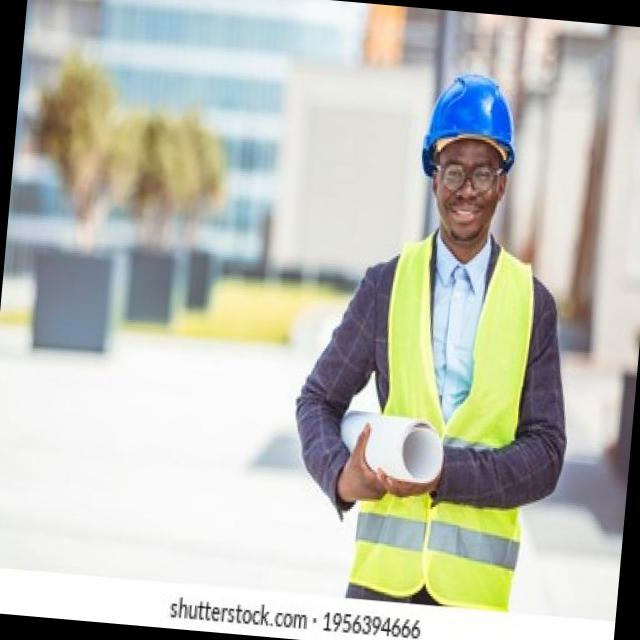Helmet: (420, 61, 536, 178)
Vest: (349, 225, 550, 613)
